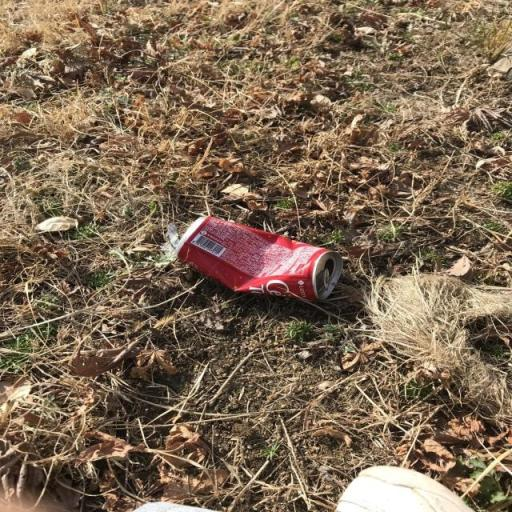metal: (153, 194, 368, 316)
